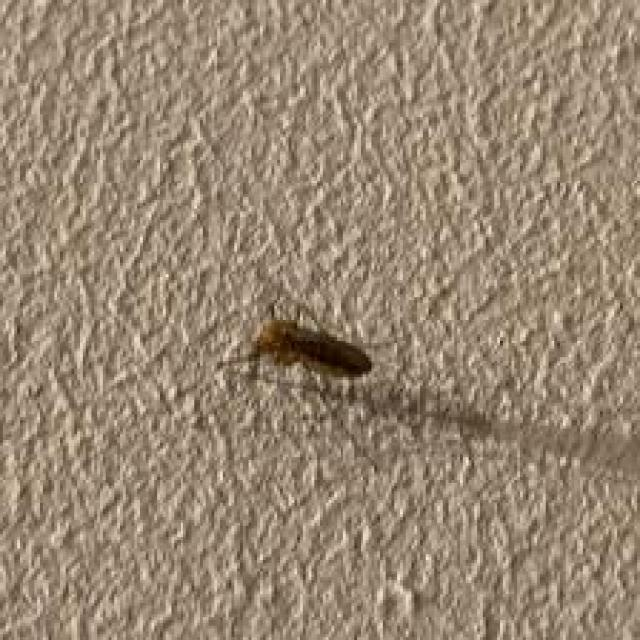Culex: (247, 316, 373, 381)
